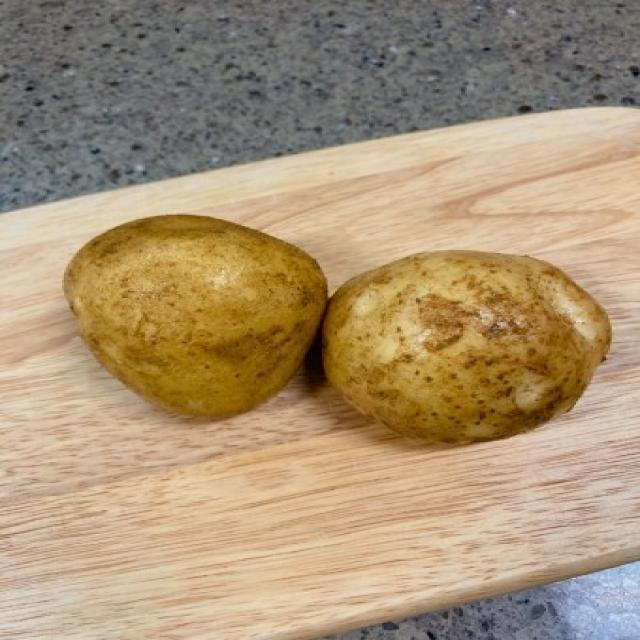potato: (310, 246, 612, 447), (61, 204, 322, 425)
